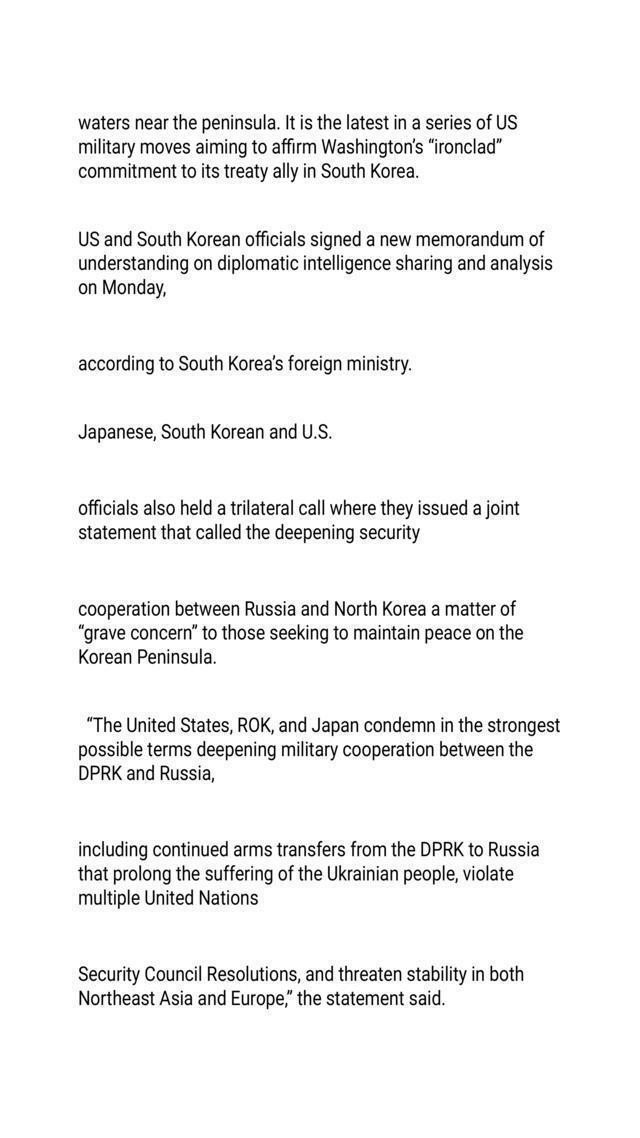Text: (71, 958, 532, 986), (74, 223, 549, 250), (75, 711, 568, 736), (74, 251, 562, 276), (74, 347, 418, 381), (70, 621, 532, 646), (74, 861, 532, 886), (71, 836, 548, 860), (75, 738, 535, 762), (76, 498, 527, 522), (72, 136, 512, 160), (73, 986, 450, 1012), (70, 596, 530, 617), (77, 522, 429, 548), (70, 112, 527, 132), (72, 160, 420, 184), (75, 419, 338, 448), (76, 889, 267, 913), (76, 762, 222, 789), (70, 646, 226, 671), (72, 275, 172, 299)
